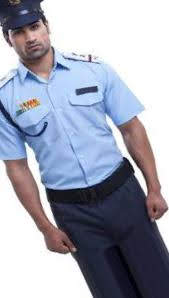uniform: (2, 41, 169, 284)
